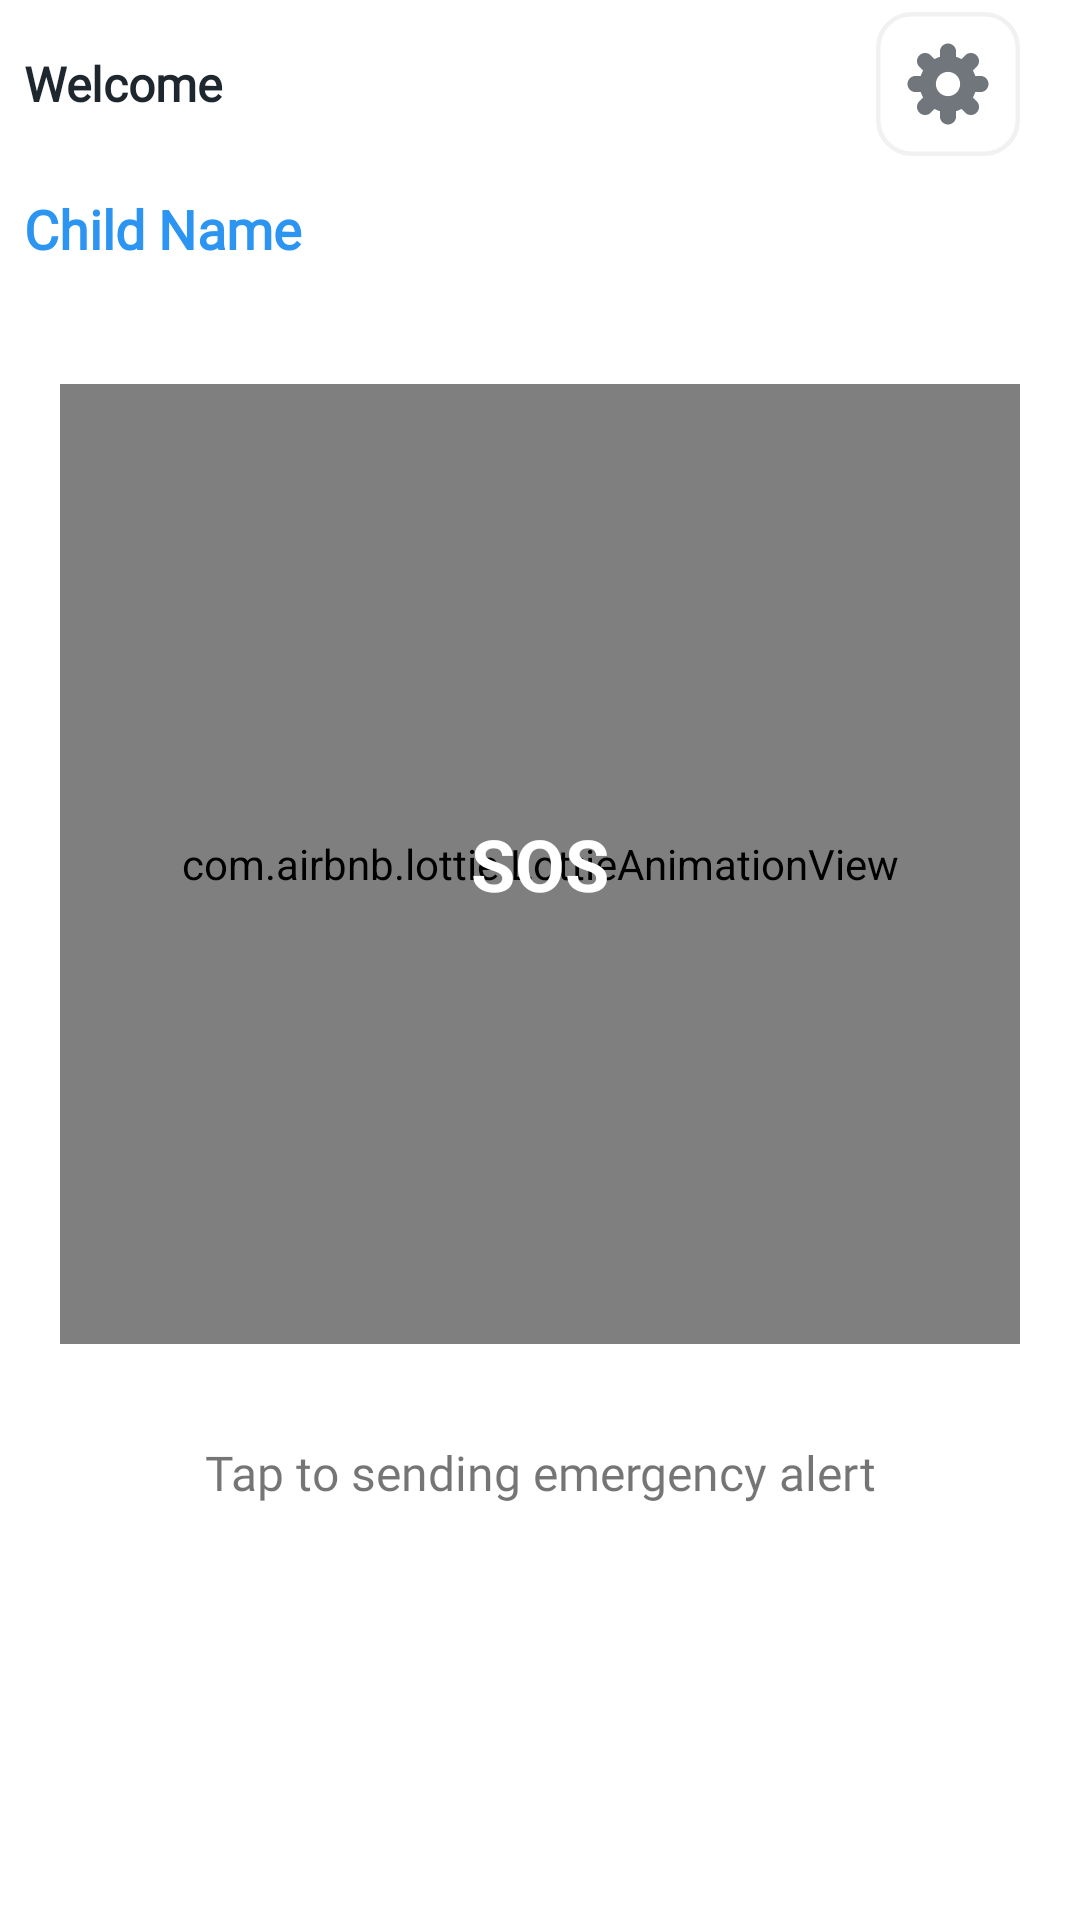

Icon click points for this 1080 × 1920 phone screenshot, format [x,y]:
settings: [948,84]
